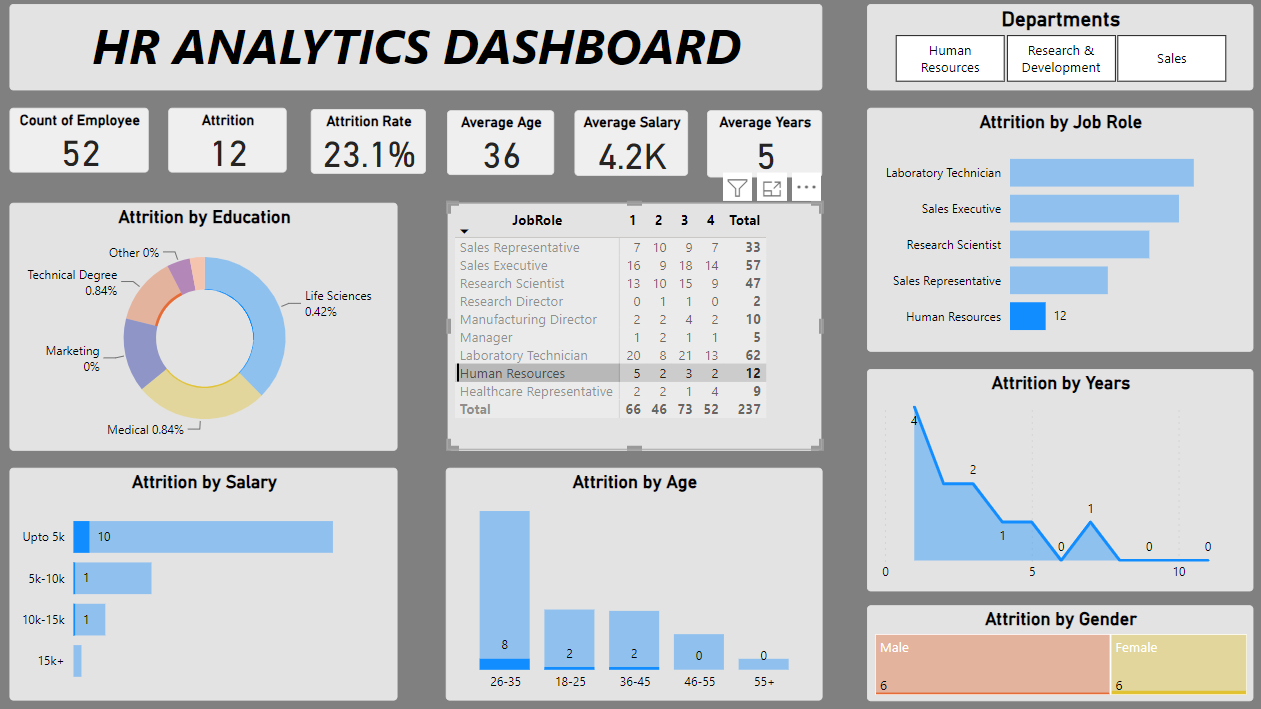

Layout of this report page (visuals, bound fields, positions):
{"tool":"powerbi","page":{"name":"Page 1","canvas":[1280,720],"ordinal":0},"visuals":[{"type":"card","title":"Count of Employee","fields":{"Values":["CountNonNull(HR_Analytics.EmpID)"]},"box":[17,113.8,139.4,64.9],"z":0},{"type":"card","title":"Attrition","fields":{"Values":["Sum(HR_Analytics.AttritionCount)"]},"box":[176.6,113.8,118.1,64.9],"z":1000},{"type":"card","title":"Attrition Rate","fields":{"Values":["HR_Analytics.AttritionRate"]},"box":[319.1,114.9,114.9,64.9],"z":2000},{"type":"card","title":"Average Age ","fields":{"Values":["Avg(HR_Analytics.Age)"]},"box":[455.3,116,107.4,64.9],"z":3000},{"type":"card","title":"Average Salary","fields":{"Values":["Avg(HR_Analytics.MonthlyIncome)"]},"box":[583,116,113.8,66],"z":4000},{"type":"card","title":"Average Years ","fields":{"Values":["Avg(HR_Analytics.YearsAtCompany)"]},"box":[714.9,116,114.9,67],"z":5000},{"type":"donutChart","title":"Attrition by Education","fields":{"Category":["HR_Analytics.EducationField"],"Y":["Sum(HR_Analytics.AttritionCount)"]},"box":[17,208.5,388.3,247.9],"z":6000},{"type":"columnChart","title":"Attrition by Age","fields":{"Category":["HR_Analytics.AgeGroup"],"Y":["Sum(HR_Analytics.AttritionCount)"]},"box":[453.2,473.4,376.6,233],"z":7000},{"type":"pivotTable","fields":{"Rows":["HR_Analytics.JobRole"],"Columns":["HR_Analytics.JobSatisfaction"],"Values":["Sum(HR_Analytics.AttritionCount)"]},"box":[455.3,208.5,374.5,247.9],"z":8000},{"type":"barChart","title":"Attrition by Salary","fields":{"Category":["HR_Analytics.SalarySlab"],"Y":["Sum(HR_Analytics.AttritionCount)"]},"box":[17,473.4,388.3,233],"z":9000},{"type":"barChart","title":"Attrition by Job Role","fields":{"Category":["HR_Analytics.JobRole"],"Y":["Sum(HR_Analytics.AttritionCount)"]},"box":[875.5,113.8,386.2,243.6],"z":10000},{"type":"areaChart","title":"Attrition by Years","fields":{"Category":["HR_Analytics.YearsAtCompany"],"Y":["Sum(HR_Analytics.AttritionCount)"]},"box":[875,375,386.2,222.5],"z":11000},{"type":"treemap","title":"Attrition by Gender","fields":{"Group":["HR_Analytics.Gender"],"Values":["Sum(HR_Analytics.AttritionCount)"]},"box":[875.5,610.6,386.2,95.7],"z":12000},{"type":"slicer","title":"Departments","fields":{"Values":["HR_Analytics.Department"]},"box":[875.5,9.6,386.2,86.2],"z":13000},{"type":"textbox","box":[17,9.6,812.8,86.2],"z":14000}]}

Visuals, with their boxes in screenshot pixels (x1, y1, x2, y2), scaled from the page's 1280x720 canvas onto the 1261x709 screenshot:
"Count of Employee" card: 17/112/154/176
"Attrition" card: 174/112/290/176
"Attrition Rate" card: 314/113/428/177
"Average Age " card: 449/114/554/178
"Average Salary" card: 574/114/686/179
"Average Years " card: 704/114/817/180
"Attrition by Education" donutChart: 17/205/399/449
"Attrition by Age" columnChart: 446/466/817/696
pivotTable - HR_Analytics.JobRole x HR_Analytics.JobSatisfaction: 449/205/817/449
"Attrition by Salary" barChart: 17/466/399/696
"Attrition by Job Role" barChart: 863/112/1243/352
"Attrition by Years" areaChart: 862/369/1242/588
"Attrition by Gender" treemap: 863/601/1243/696
"Departments" slicer: 863/9/1243/94
textbox: 17/9/817/94
